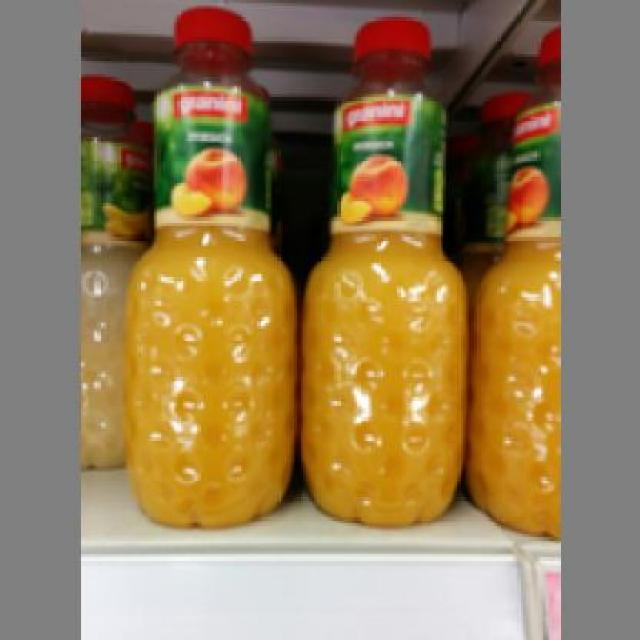Juice: (123, 3, 300, 526), (296, 11, 469, 524)
